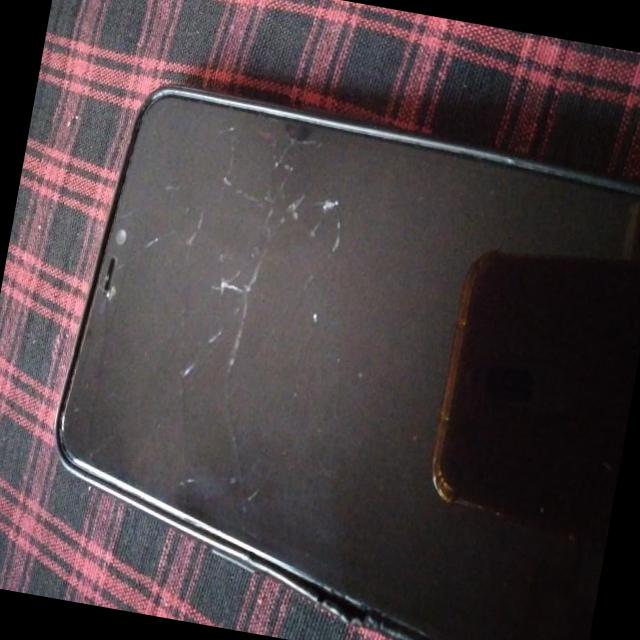screen crack: (102, 51, 378, 504)
